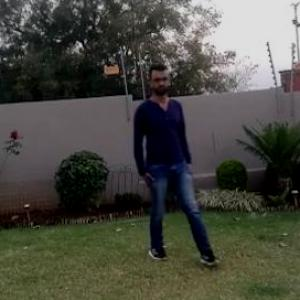follow: (117, 61, 186, 264)
